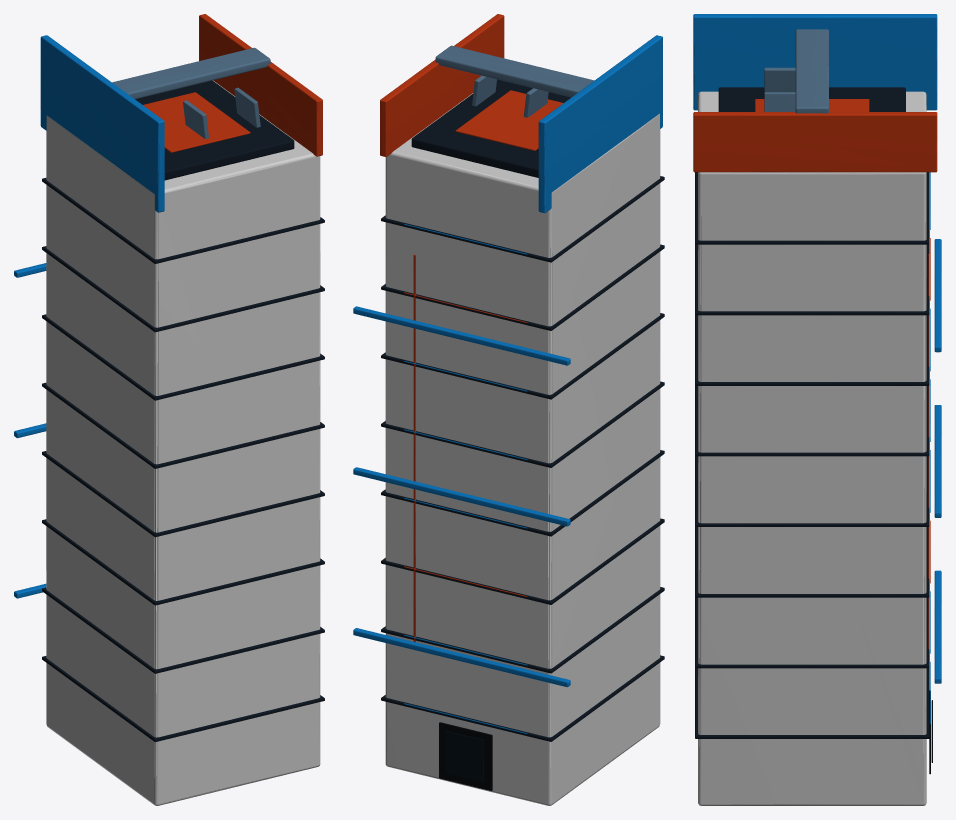
The model's file is HeroTowerB.obj.
The picture shows the model from 3 angles, left to right: view 1: azimuth 30°, elevation 25°; view 2: azimuth 150°, elevation 25°; view 3: azimuth 270°, elevation 25°; orthographic projection. The views are drawn at different scales.
Parts seen in each view (by area): view 1: HeroTowerB_Facade, HeroTowerB_RoofArmor, HeroTowerB_BandGlow, HeroTowerB_RoofLight, HeroTowerB_CornerSpar; view 2: HeroTowerB_Facade, HeroTowerB_BandGlow, HeroTowerB_RoofArmor, HeroTowerB_RoofLight, HeroTowerB_CornerSpar, HeroTowerB_EntryGlass, HeroTowerB_EntryRecess; view 3: HeroTowerB_Facade, HeroTowerB_BandGlow, HeroTowerB_RoofLight, HeroTowerB_RoofArmor, HeroTowerB_CornerSpar.
Part boxes in pixels (box(x1,y1,x2,y2)): HeroTowerB_Facade: box(46, 80, 320, 805); HeroTowerB_RoofArmor: box(42, 80, 324, 741); HeroTowerB_BandGlow: box(14, 35, 164, 598); HeroTowerB_RoofLight: box(143, 14, 322, 156); HeroTowerB_CornerSpar: box(112, 47, 270, 138); HeroTowerB_Facade: box(385, 93, 660, 805); HeroTowerB_BandGlow: box(353, 35, 662, 733); HeroTowerB_RoofArmor: box(381, 79, 664, 741); HeroTowerB_RoofLight: box(380, 14, 563, 642); HeroTowerB_CornerSpar: box(435, 45, 594, 117); HeroTowerB_EntryGlass: box(445, 731, 483, 782); HeroTowerB_EntryRecess: box(439, 722, 492, 790); HeroTowerB_Facade: box(698, 91, 926, 805); HeroTowerB_BandGlow: box(693, 14, 941, 724); HeroTowerB_RoofLight: box(693, 99, 937, 649); HeroTowerB_RoofArmor: box(695, 87, 929, 738); HeroTowerB_CornerSpar: box(764, 29, 828, 113).
Size of the model in its own units: 16.8 by 51.4 by 16.28.
